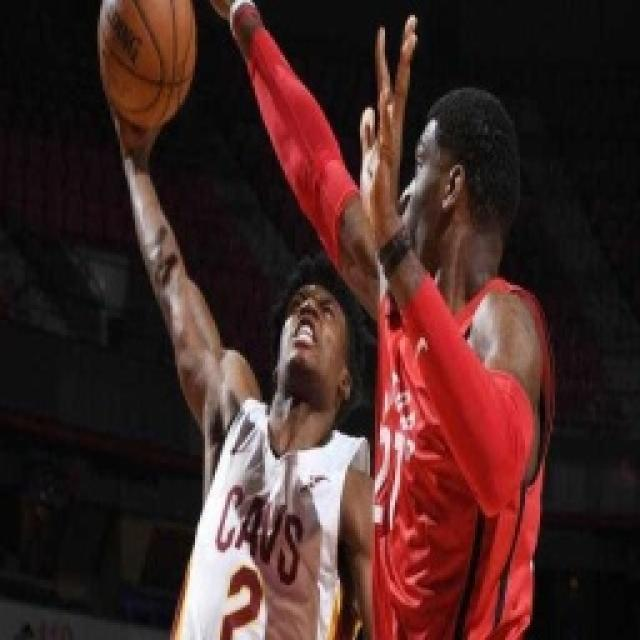rim: (92, 0, 206, 130)
